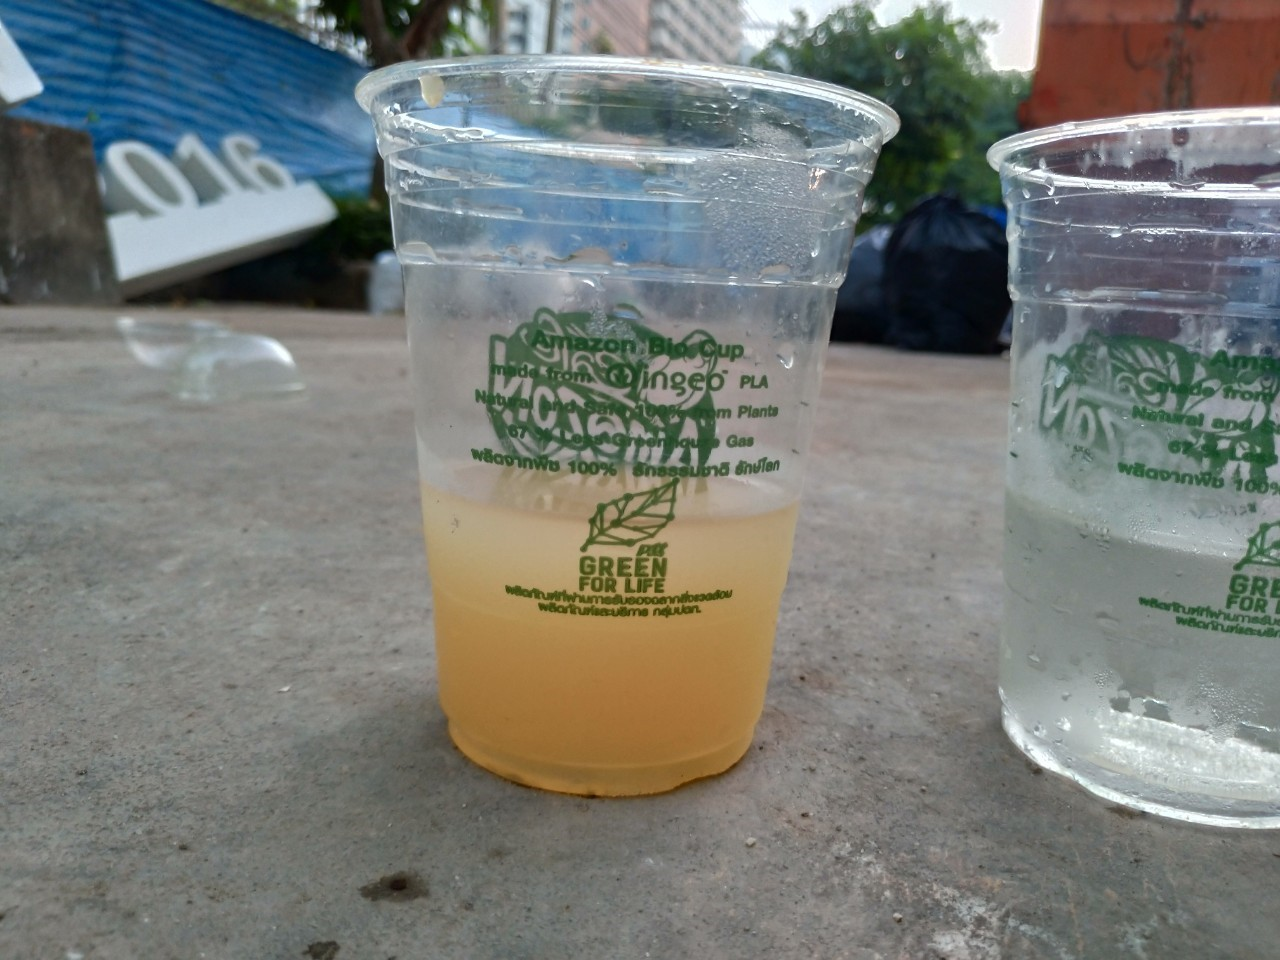PlasticCup: (349, 47, 898, 809), (980, 115, 1280, 827)
